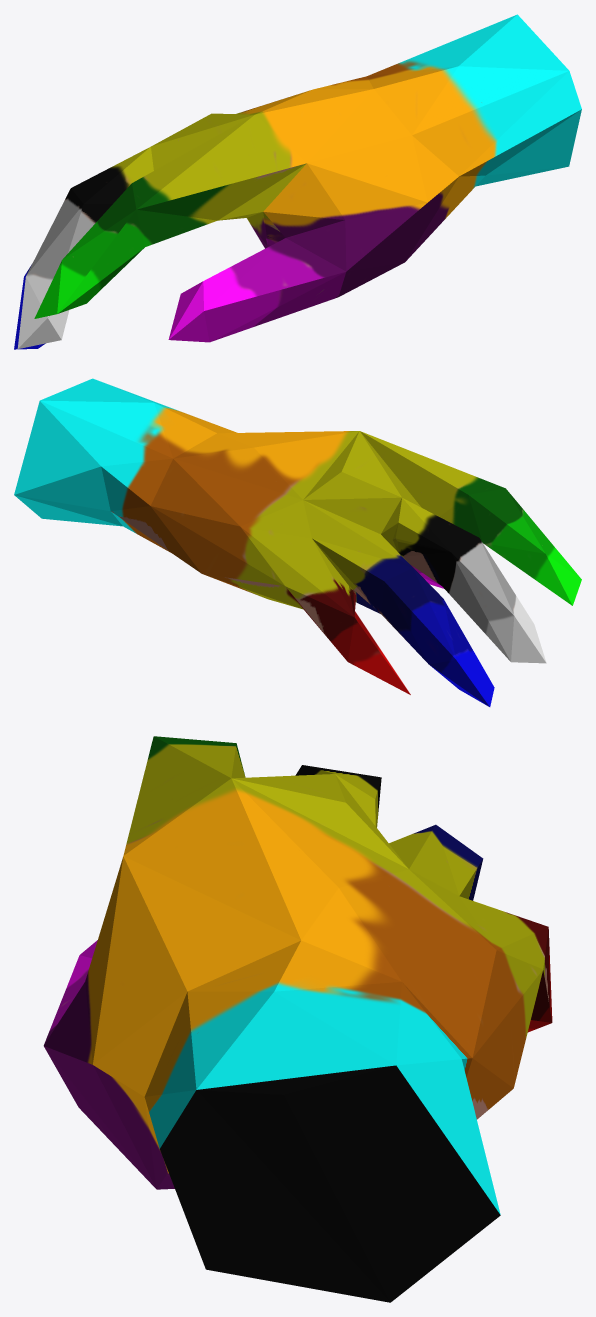
File: hand.obj
The picture shows the model from 3 angles, top to bottom: view 1: azimuth 30°, elevation 25°; view 2: azimuth 150°, elevation 25°; view 3: azimuth 270°, elevation 25°; orthographic projection. The views are drawn at different scales.
Visible parts, largest first — view 1: hand_mesh_hand; view 2: hand_mesh_hand; view 3: hand_mesh_hand.
Boxes of the visible parts, x1=… form: hand_mesh_hand: x1=14, y1=14, x2=581, y2=349; hand_mesh_hand: x1=14, y1=378, x2=581, y2=706; hand_mesh_hand: x1=43, y1=736, x2=552, y2=1302.
Bounding box in the file's own units: 4.35 × 1.73 × 1.97.
